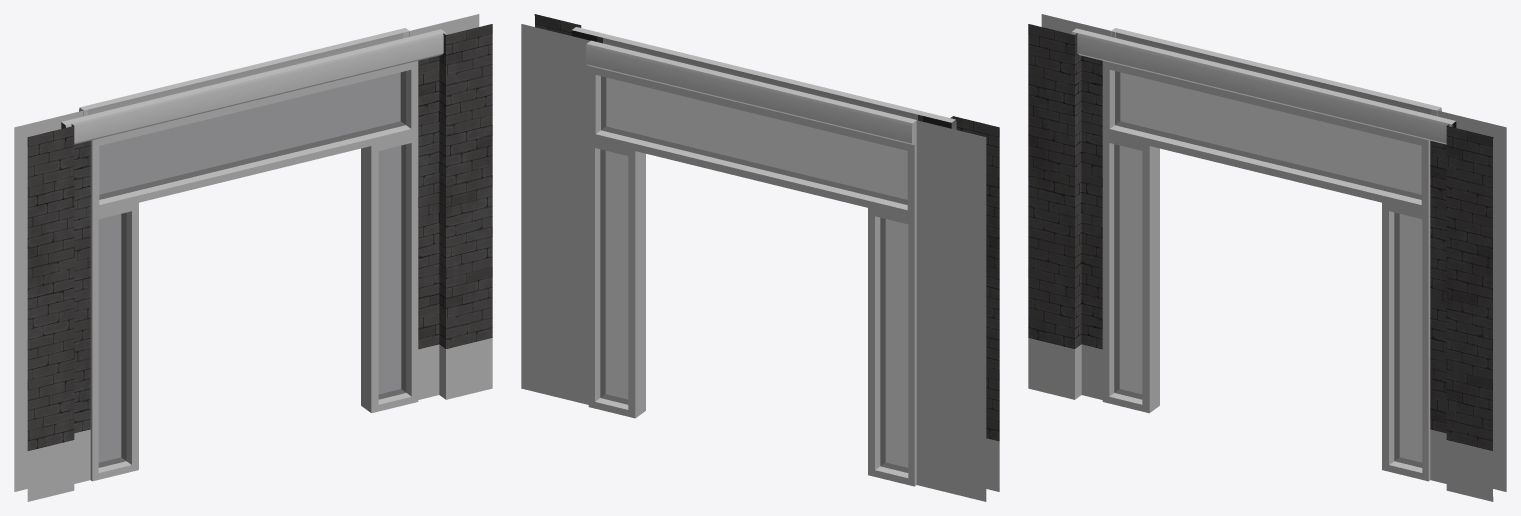
Rendered from DoorFrame_WornBrick.gltf.
3 views of the same model, side by side, from view 1: azimuth 30°, elevation 25°; view 2: azimuth 150°, elevation 25°; view 3: azimuth 330°, elevation 25° (orthographic).
Parts seen in each view (by area): view 1: DoorFrame_WornBrick; view 2: DoorFrame_WornBrick; view 3: DoorFrame_WornBrick.
Part boxes in pixels (box(x1,y1,x2,y2)): DoorFrame_WornBrick: box(14, 14, 492, 501); DoorFrame_WornBrick: box(521, 14, 999, 501); DoorFrame_WornBrick: box(1028, 14, 1506, 501).
Size of what is drawn, in the model's own units: 4 by 3 by 0.2699.
